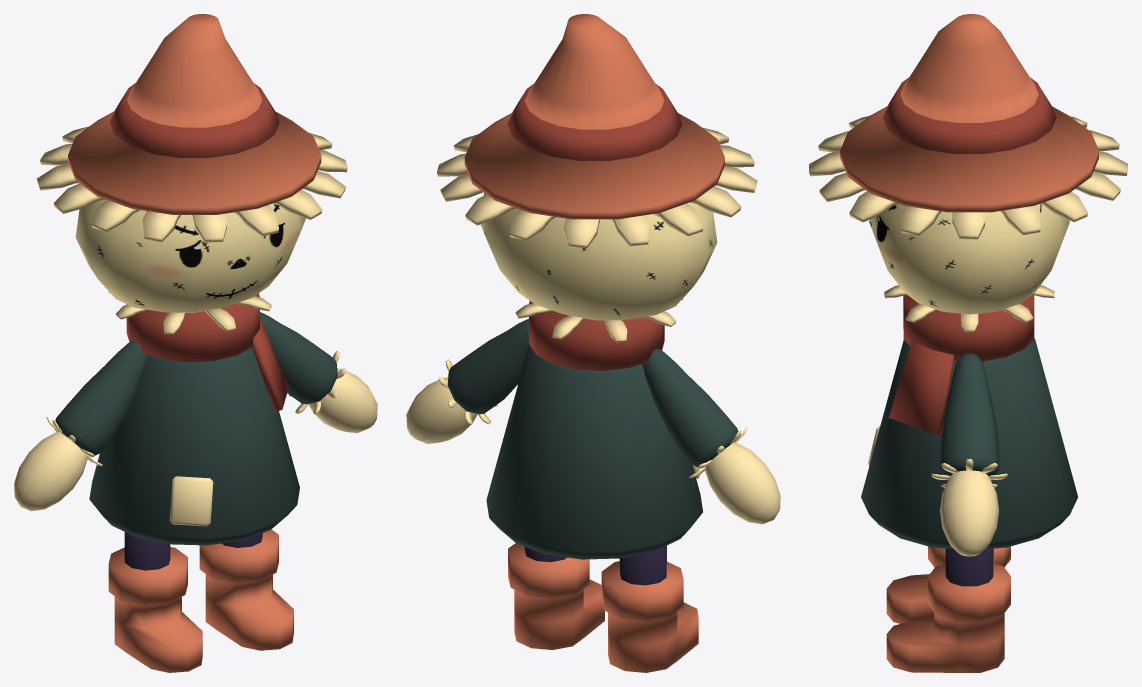
File: scarecrow.glb
3 views of the same model, side by side, from view 1: azimuth 30°, elevation 25°; view 2: azimuth 150°, elevation 25°; view 3: azimuth 270°, elevation 25° (orthographic). The views are drawn at different scales.
Visible parts, largest first — view 1: Hat, Body, Legs, Arms, Head, Straw.001, Scarf, Straw; view 2: Body, Hat, Arms, Legs, Head, Straw.001, Scarf, Straw; view 3: Hat, Body, Head, Legs, Arms, Scarf, Straw.001, Straw.
Boxes of the visible parts, left/top/right/bottom form: Hat: left=68, top=14, right=321, bottom=214; Body: left=89, top=347, right=299, bottom=545; Legs: left=108, top=529, right=293, bottom=672; Arms: left=14, top=312, right=377, bottom=511; Head: left=75, top=189, right=305, bottom=312; Straw.001: left=36, top=126, right=347, bottom=242; Scarf: left=126, top=293, right=288, bottom=411; Straw: left=108, top=291, right=271, bottom=334; Body: left=486, top=344, right=702, bottom=559; Hat: left=464, top=14, right=724, bottom=219; Arms: left=406, top=318, right=780, bottom=524; Legs: left=508, top=543, right=698, bottom=672; Head: left=481, top=193, right=717, bottom=320; Straw.001: left=437, top=127, right=757, bottom=248; Scarf: left=529, top=301, right=664, bottom=370; Straw: left=515, top=298, right=683, bottom=342; Hat: left=840, top=14, right=1098, bottom=212; Body: left=861, top=338, right=1077, bottom=549; Head: left=869, top=203, right=1069, bottom=314; Legs: left=886, top=546, right=1010, bottom=672; Arms: left=931, top=353, right=1007, bottom=556; Scarf: left=888, top=295, right=1034, bottom=434; Straw.001: left=809, top=116, right=1127, bottom=239; Straw: left=884, top=285, right=1054, bottom=331.
Size of the model in its own units: 1.25 by 2.02 by 0.9391.
Materials: 13 (1 with a texture image).
